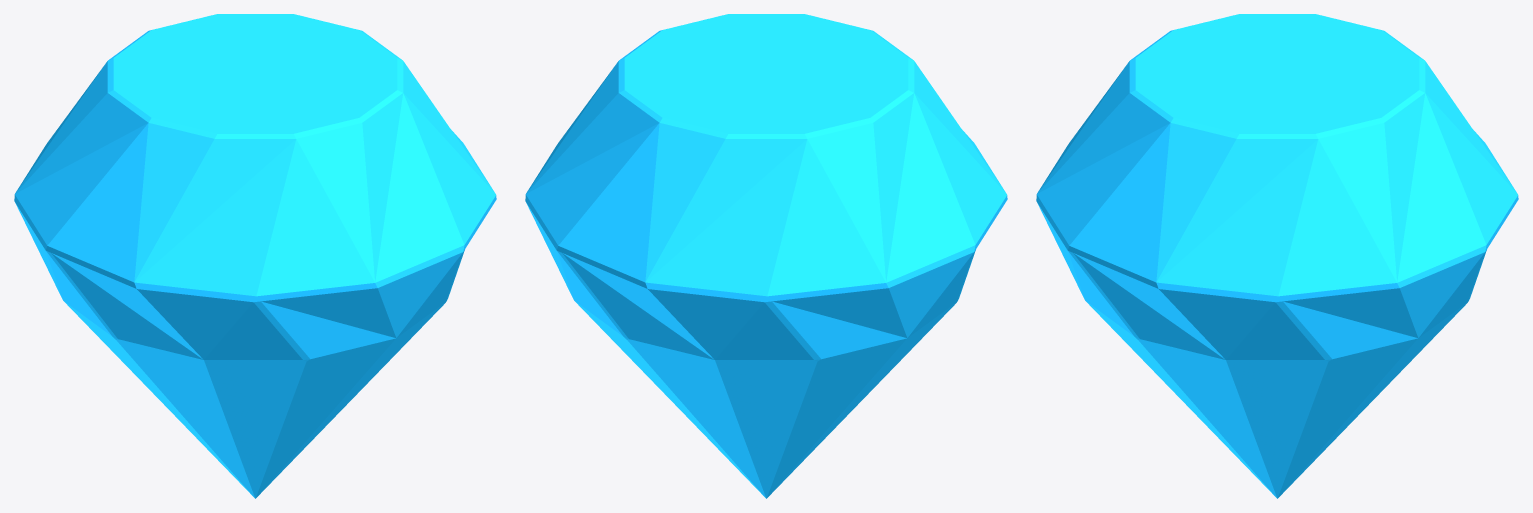
File: Diamond.fbx
The picture shows the model from 3 angles, left to right: view 1: azimuth 30°, elevation 25°; view 2: azimuth 150°, elevation 25°; view 3: azimuth 270°, elevation 25°; orthographic projection.
Parts seen in each view (by area): view 1: TD_Diamond; view 2: TD_Diamond; view 3: TD_Diamond.
Boxes of the visible parts, x1=… form: TD_Diamond: x1=14, y1=14, x2=496, y2=498; TD_Diamond: x1=525, y1=14, x2=1007, y2=498; TD_Diamond: x1=1036, y1=14, x2=1518, y2=498.
Size of the model in its own units: 1.98 by 1.93 by 1.98.
